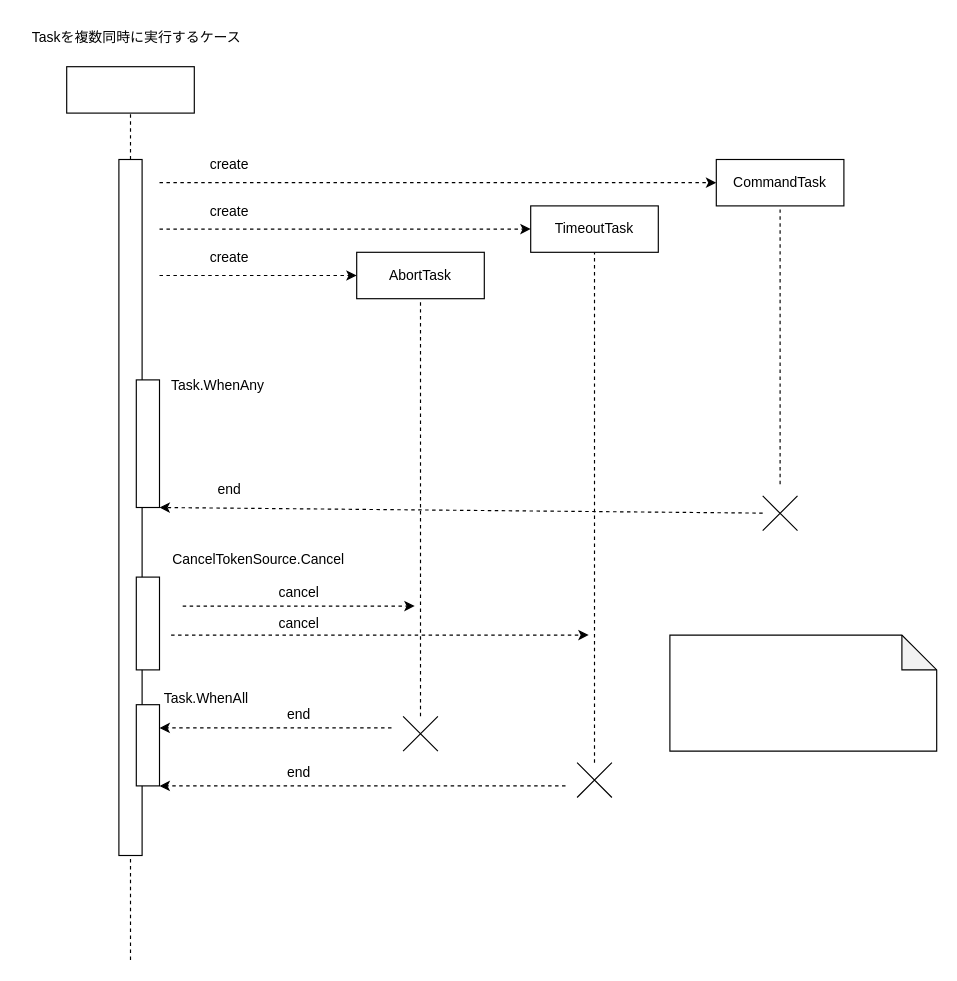
The diagram is 957 pixels wide and 981 high, and some of its shapes have lost their labels. Each missing label, with the centre of its shape:
"Worker" goes at point (130, 89).
"終了させないと、リソースが残って タスクが貼りし続けることがあるので、 要注意" goes at point (803, 692).
